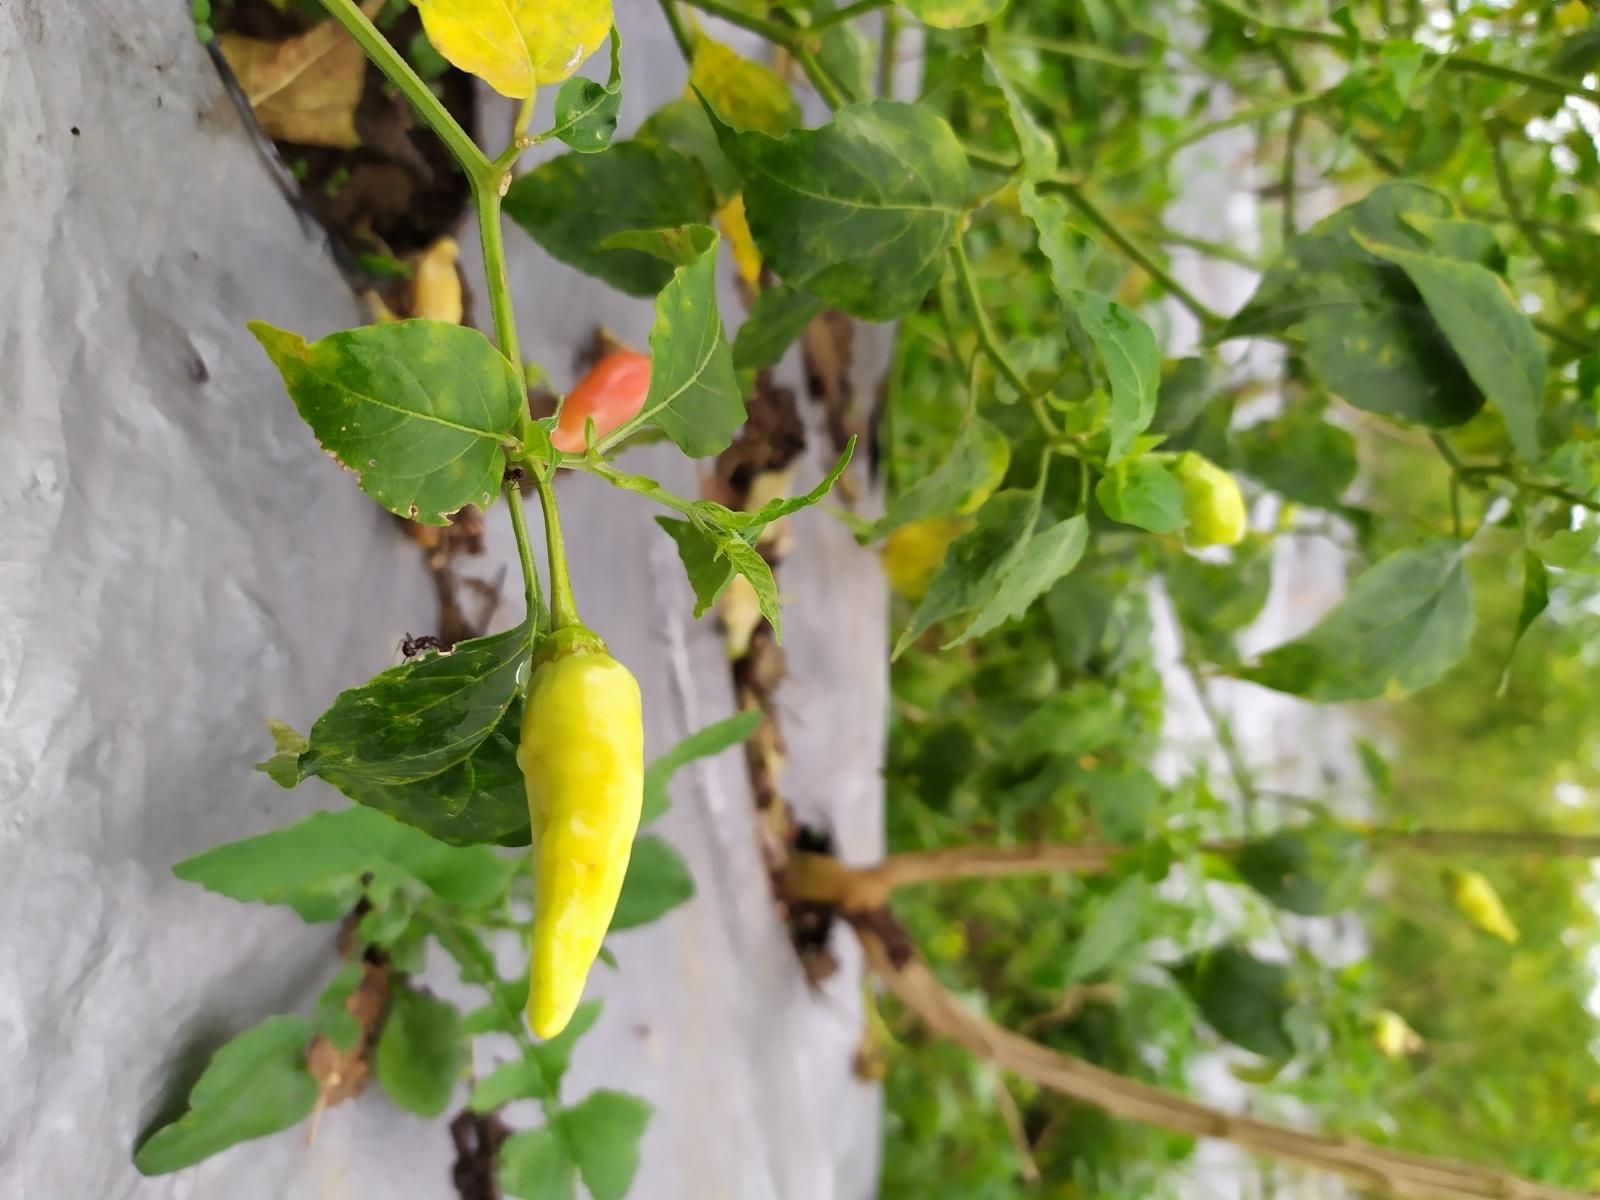cabai_normal: (514, 628, 646, 1041), (548, 349, 653, 455), (1173, 449, 1249, 548)
